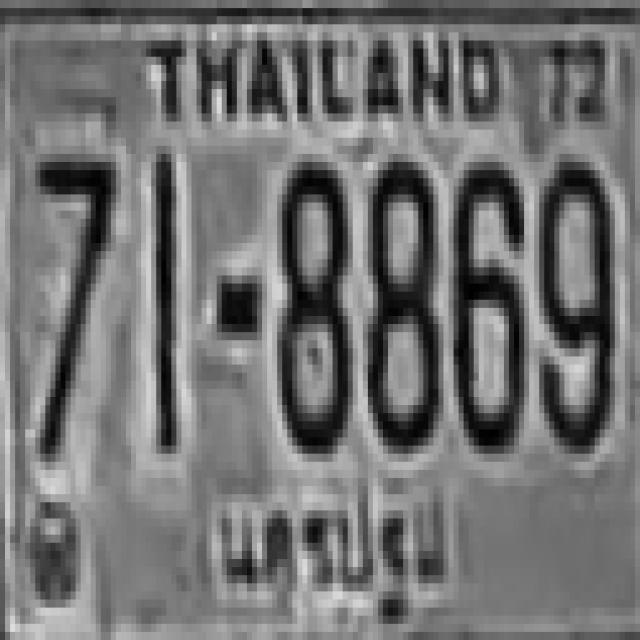1: (152, 150, 176, 449)
6: (449, 154, 519, 445)
7: (35, 146, 111, 454)
8: (272, 154, 348, 445), (363, 154, 433, 445)
9: (534, 154, 610, 445)
NPT: (209, 465, 447, 627)
